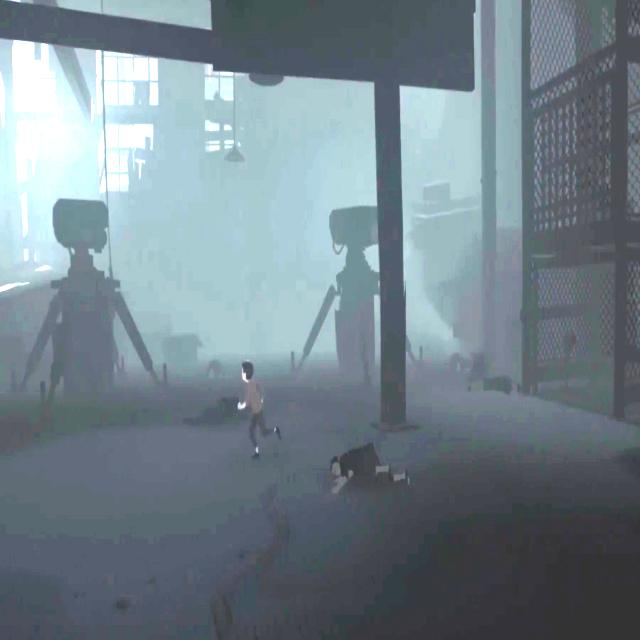boy: (239, 360, 278, 460)
zombie: (332, 442, 413, 492)
